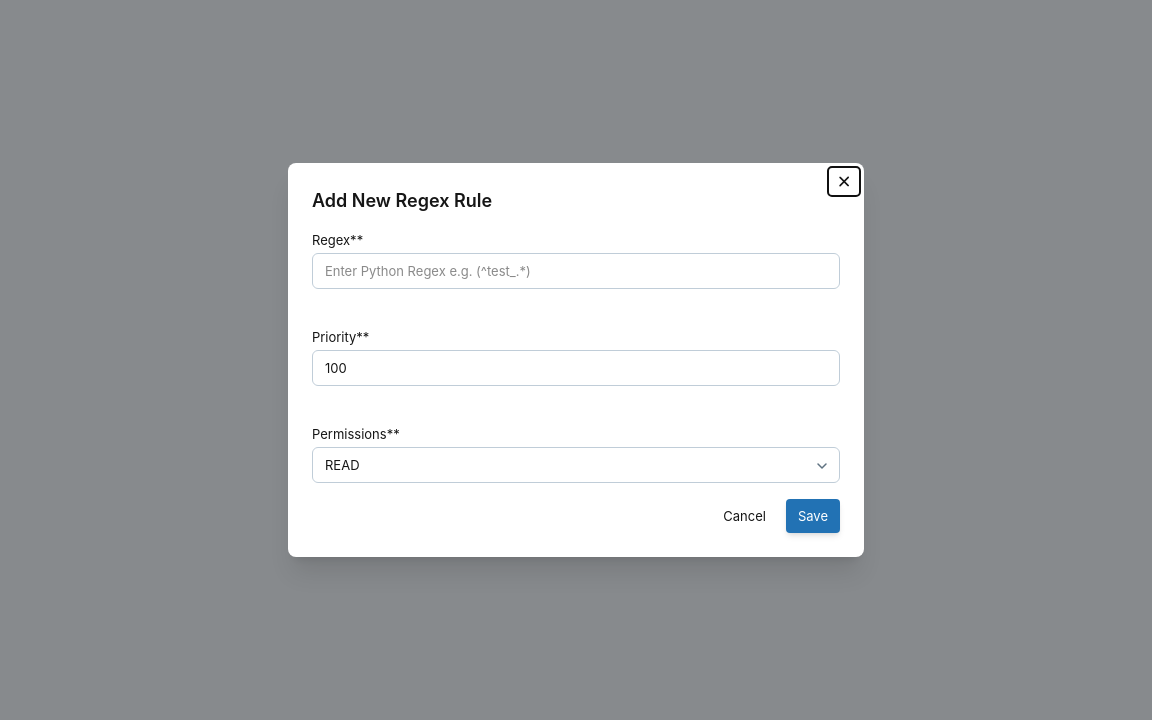
AddRegexRuleModal › validates empty regex input
Click the button "Save" at [813, 516], box left=786, top=499, right=840, bottom=533
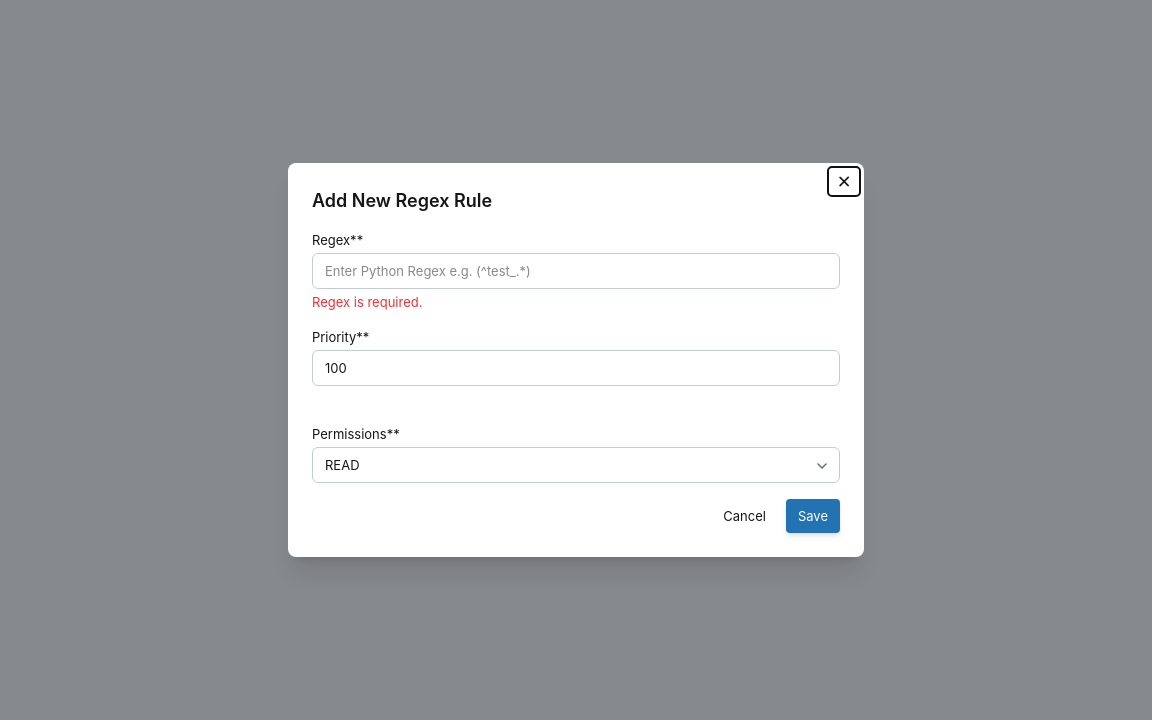
Result: the text "Regex is required." is shown at left=312, top=294, right=422, bottom=310
